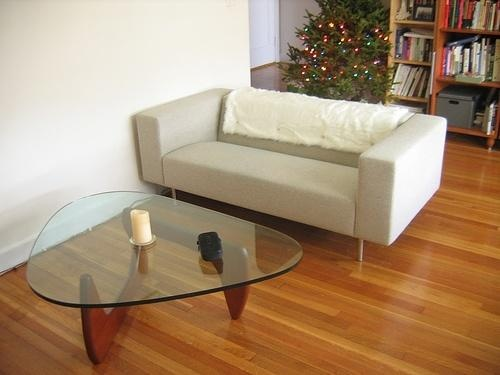sofa: (133, 85, 450, 265)
